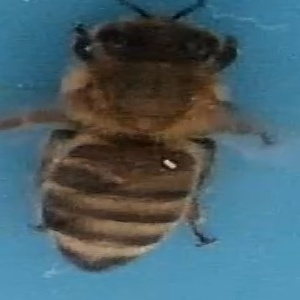bee: (22, 6, 285, 285)
